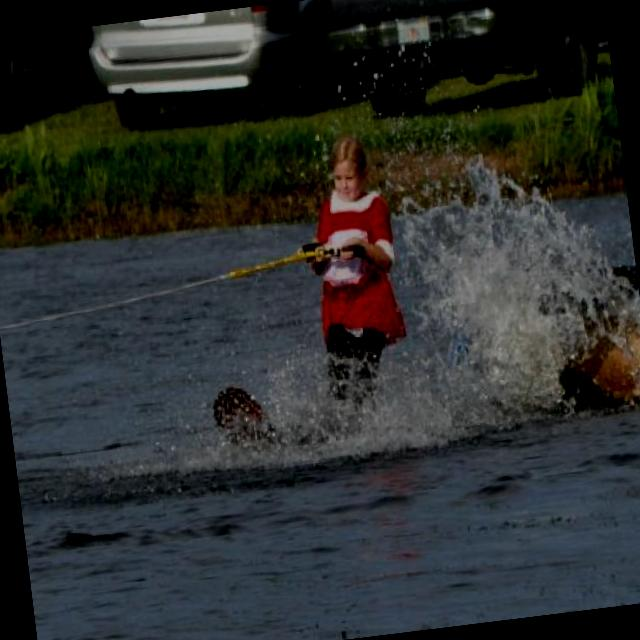Person: (292, 105, 415, 398)
